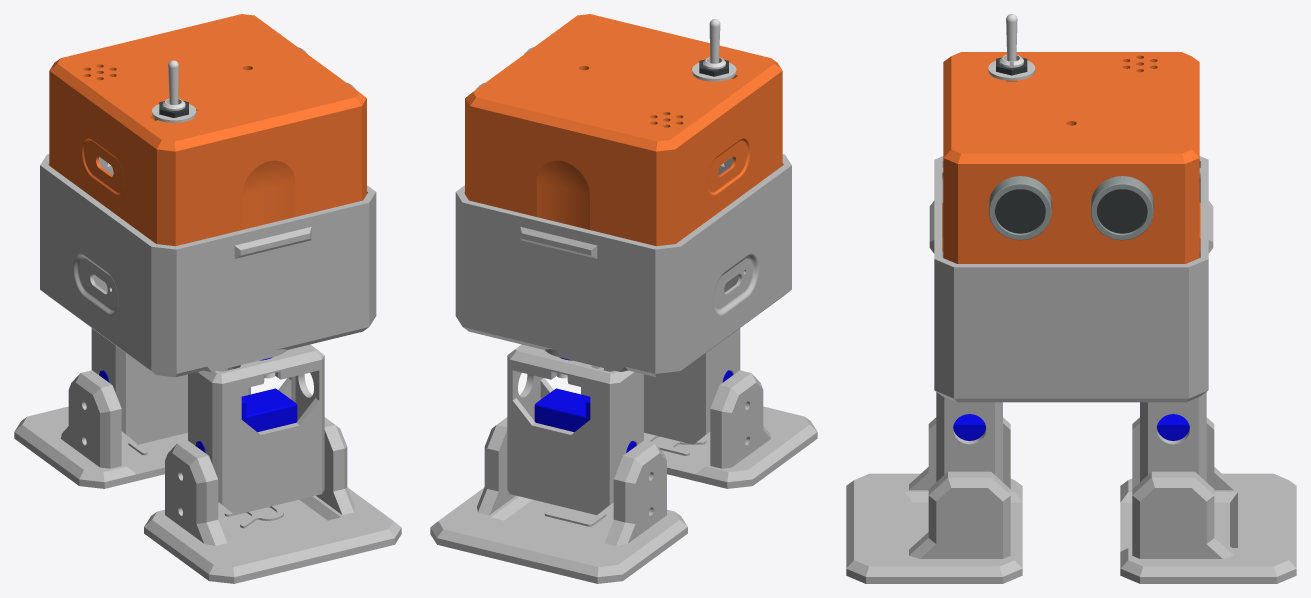
The model's file is Otto.glb.
3 renders of one model, left to right at view 1: azimuth 30°, elevation 25°; view 2: azimuth 150°, elevation 25°; view 3: azimuth 270°, elevation 25°, orthographic. The views are drawn at different scales.
Visible parts, largest first — view 1: occurrence of Servo DF9GMS, occurrence of Head, occurrence of P:\E-Switch Secure\3D_MODELS_STP_FORMAT\100SPx; view 2: occurrence of Servo DF9GMS, occurrence of Head, occurrence of P:\E-Switch Secure\3D_MODELS_STP_FORMAT\100SPx; view 3: occurrence of Servo DF9GMS, occurrence of Head, occurrence of HCSR04 Ultrasonic Sensor, occurrence of P:\E-Switch Secure\3D_MODELS_STP_FORMAT\100SPx.
Boxes of the visible parts, x1,y1,x2,y2 form: occurrence of Servo DF9GMS: (14,154,401,583); occurrence of Head: (49,14,366,246); occurrence of P:\E-Switch Secure\3D_MODELS_STP_FORMAT\100SPx: (162,60,185,110); occurrence of Servo DF9GMS: (430,154,817,583); occurrence of Head: (465,14,782,246); occurrence of P:\E-Switch Secure\3D_MODELS_STP_FORMAT\100SPx: (703,19,725,69); occurrence of Servo DF9GMS: (846,156,1296,583); occurrence of Head: (942,52,1200,263); occurrence of HCSR04 Ultrasonic Sensor: (989,57,1153,240); occurrence of P:\E-Switch Secure\3D_MODELS_STP_FORMAT\100SPx: (999,14,1023,67).
Bounding box in the file's own units: 0.0722 × 0.1373 × 0.115.
